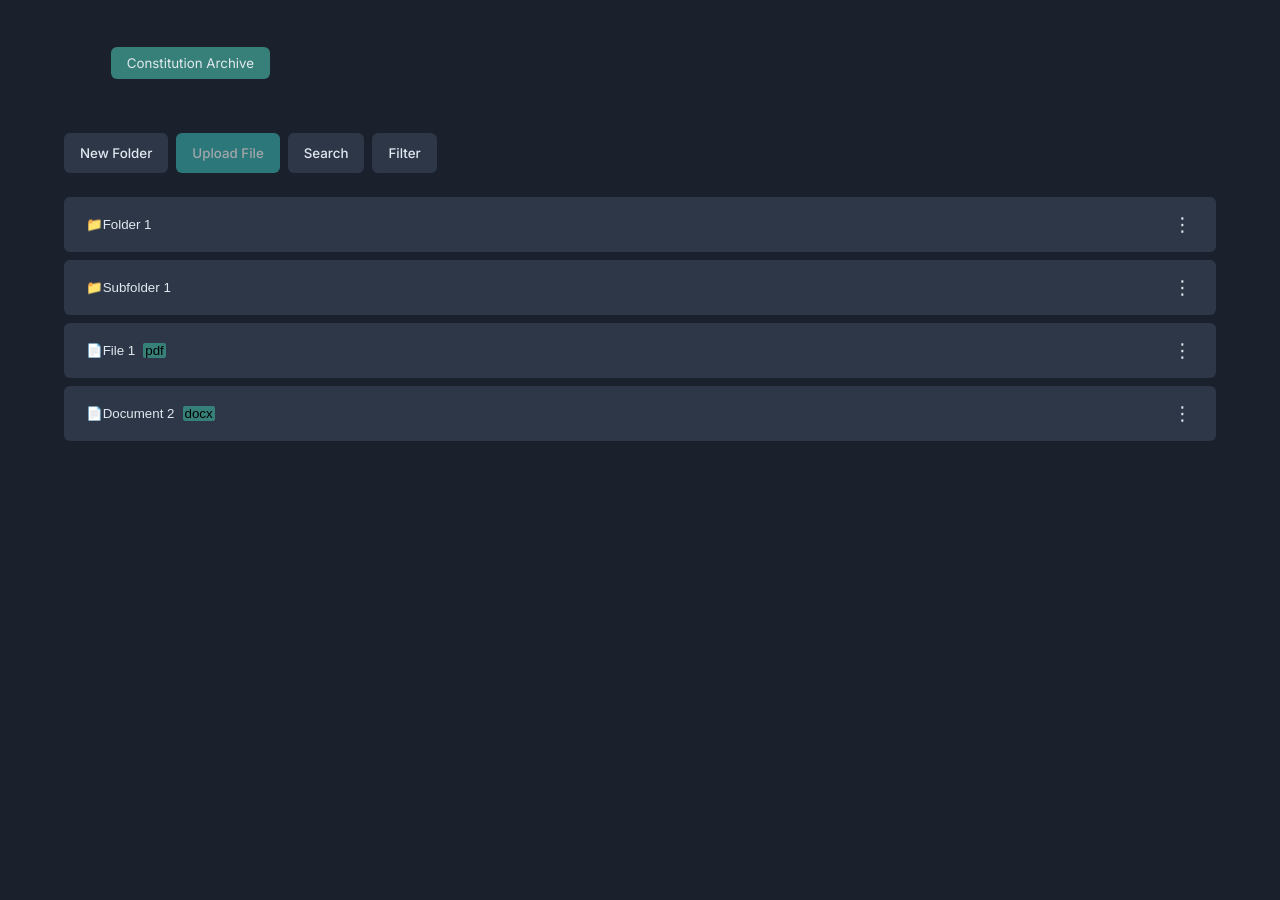
FolderBrowser Component › handleMoveHere prevents moving to root folder
Step 1. Click the button with aria-label "Open folder Folder 1" → click(127, 225), box [80, 216, 1153, 233]
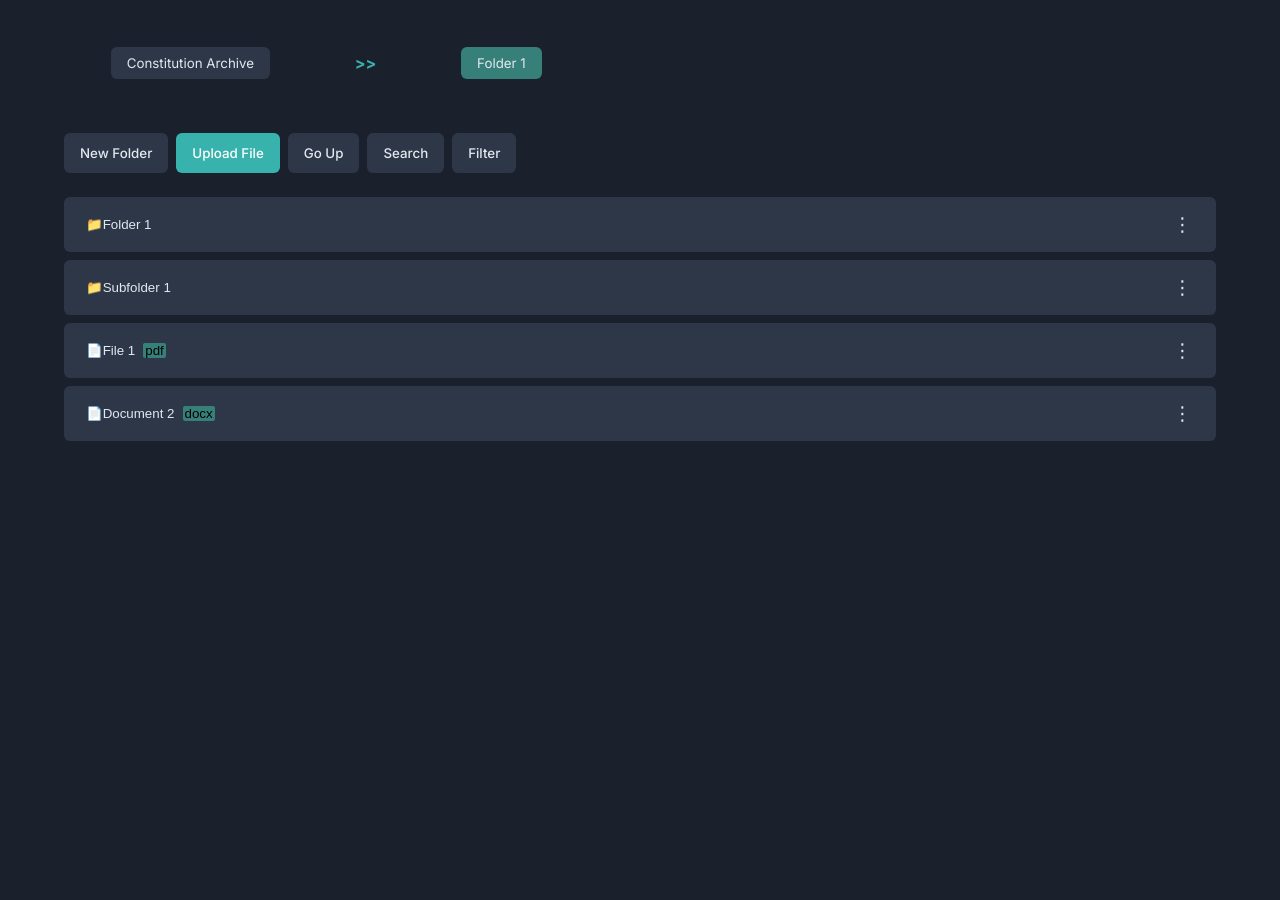
Expected: the button with aria-label "View file File 1" is shown, [80, 342, 1153, 359]
Step 2. Click the button named "More actions" → click(1182, 351), box [1165, 339, 1200, 362]
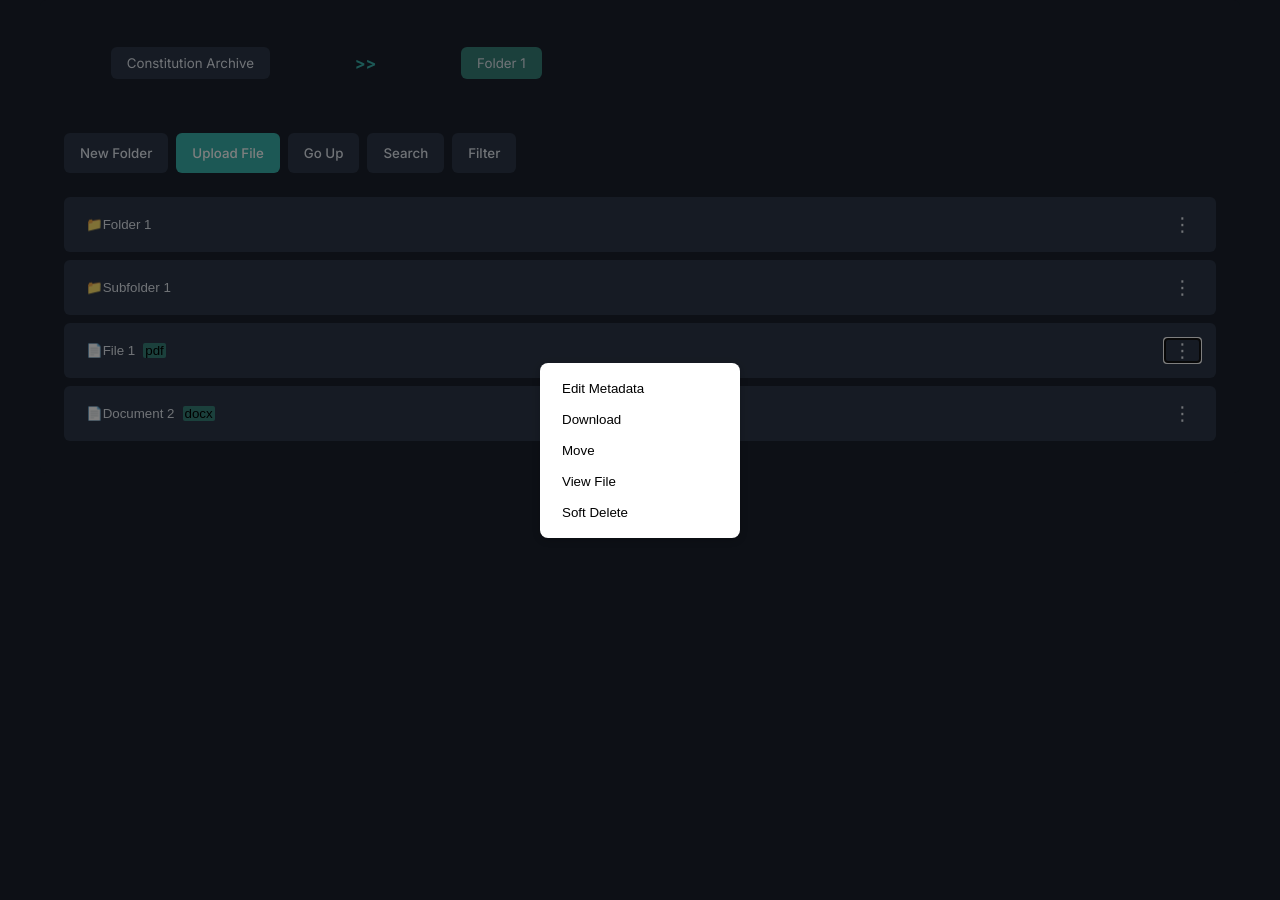
Step 3. Click the button "Move" → click(640, 450), box [550, 434, 730, 466]
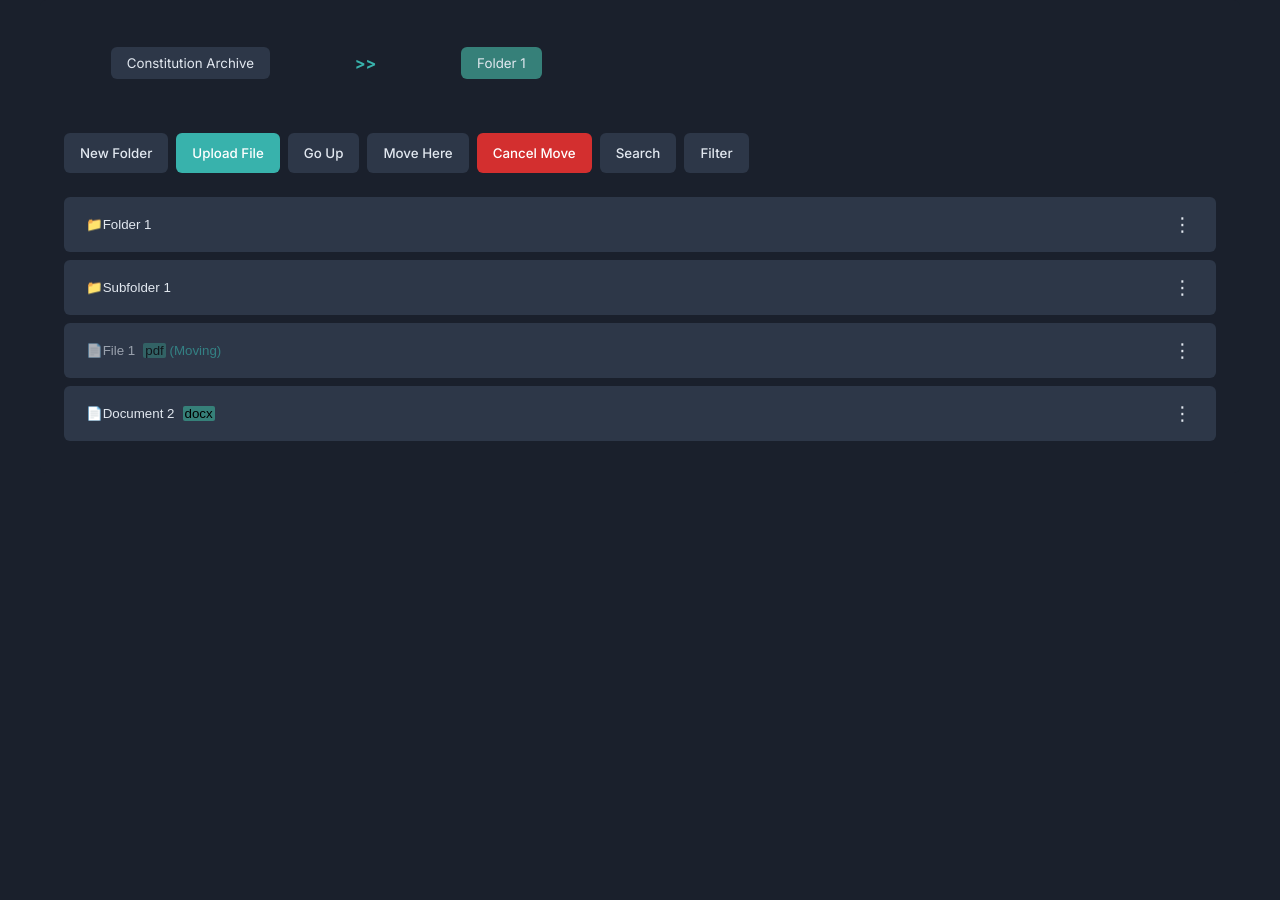
Step 4. Click the button "Go Up" → click(324, 153), box [288, 133, 359, 173]
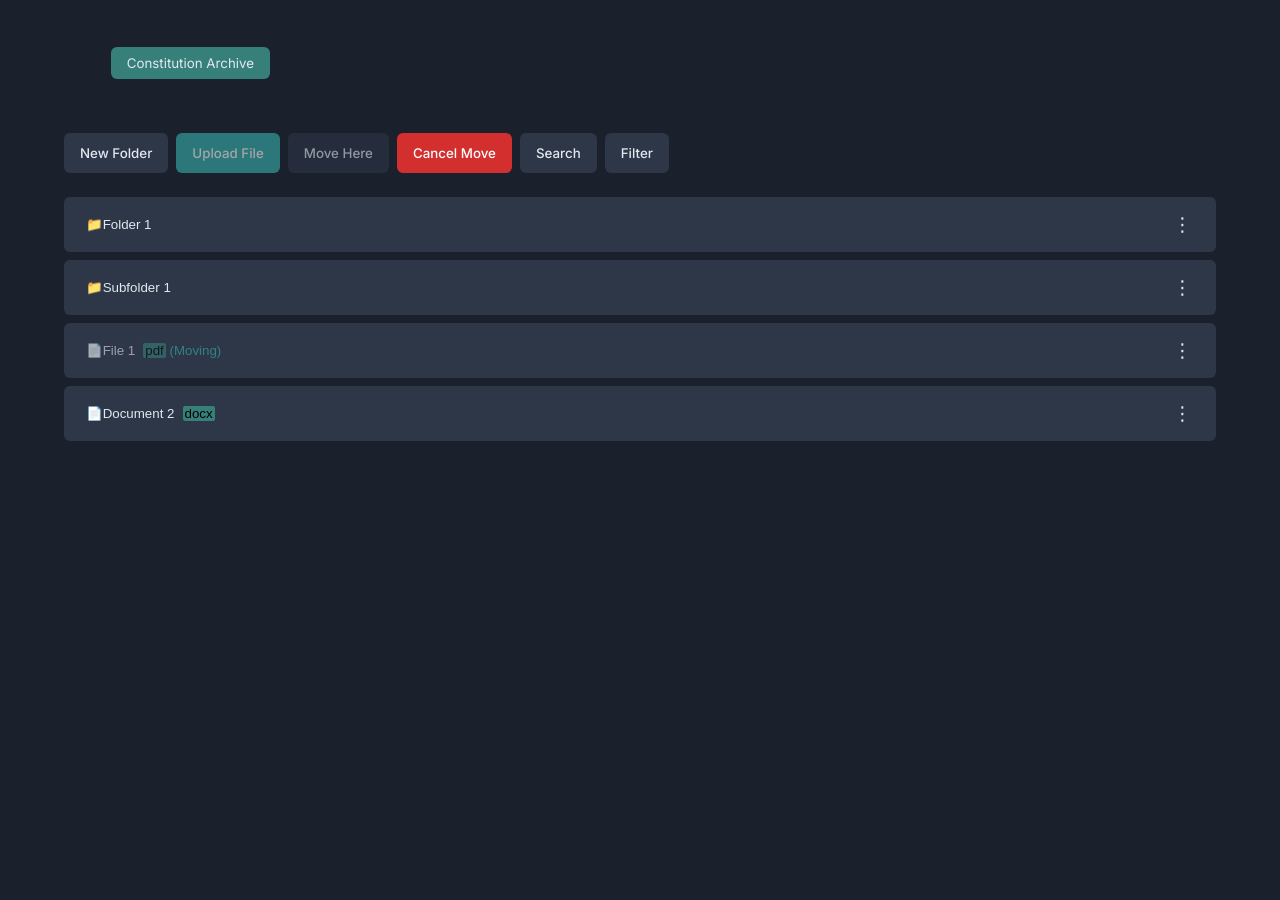
Result: the button "Move Here" is disabled at [288, 133, 389, 173]
